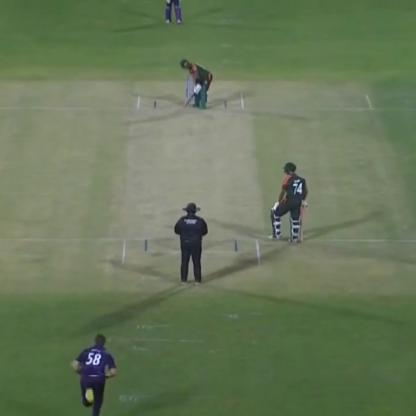bat: (182, 80, 198, 110)
pitch: (116, 92, 265, 274)
